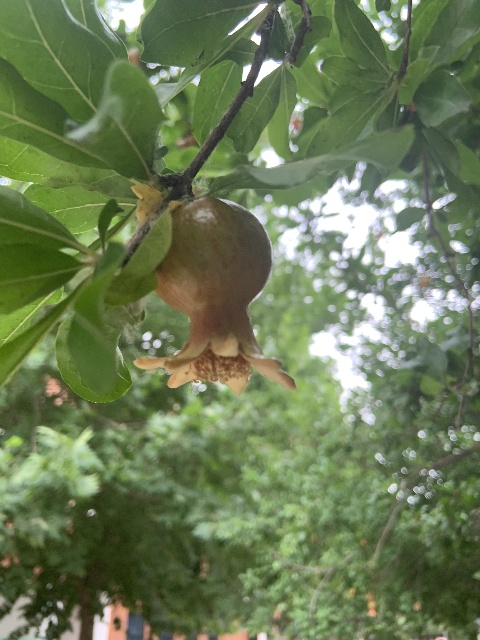early-fruit: (131, 196, 297, 399)
